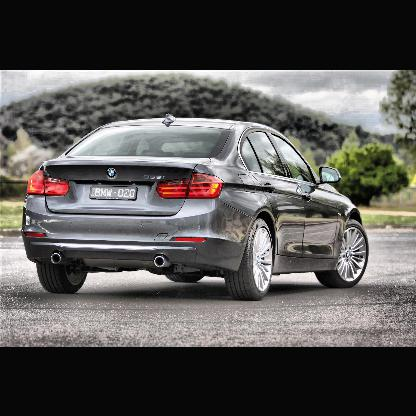BMW 3 Series Sedan 2012: (23, 114, 370, 299)
